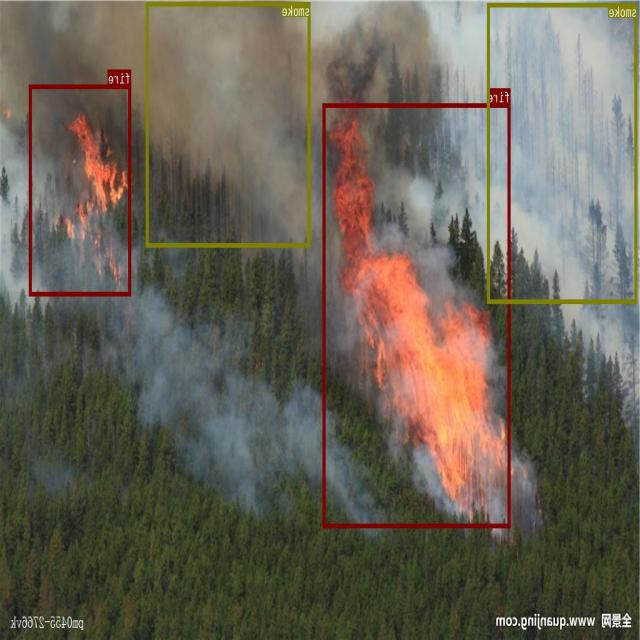fire: (324, 103, 511, 527), (30, 84, 132, 296)
smoke: (488, 2, 638, 302), (146, 2, 311, 246)
